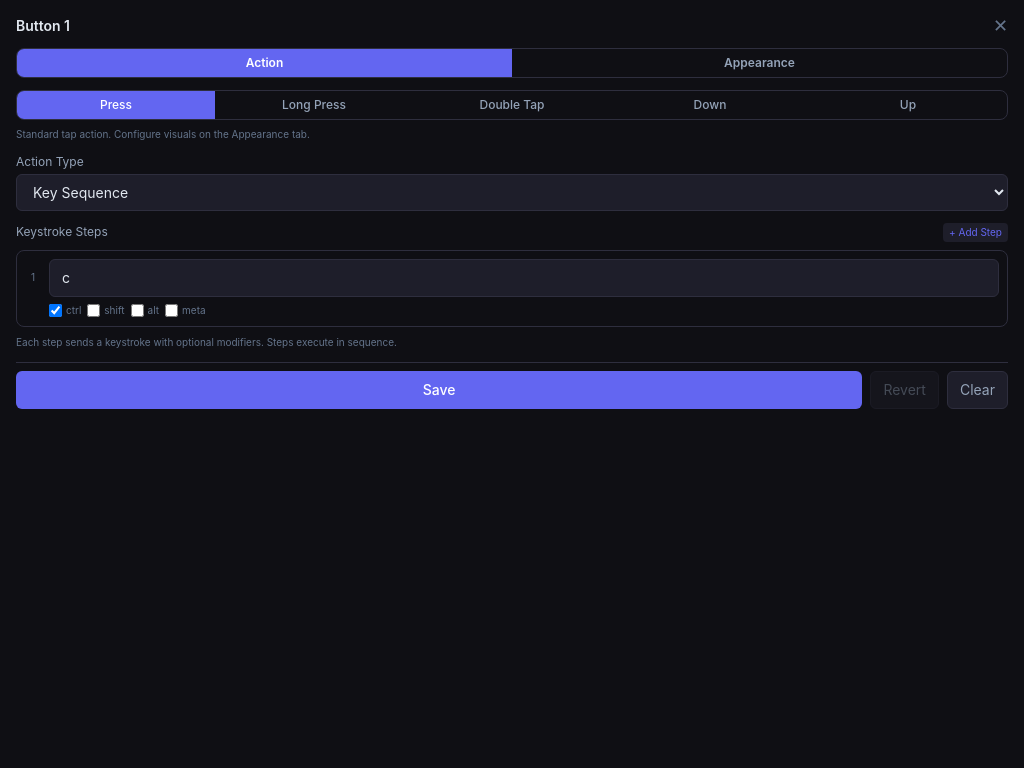
it: ActionPanel › button selected › should show existing action label for bound button
The image size is (1024, 768).
// Switch to Appearance tab where layers are displayed
Step 1. Click the button "Appearance" → (760, 63), box [512,49,1007,77]
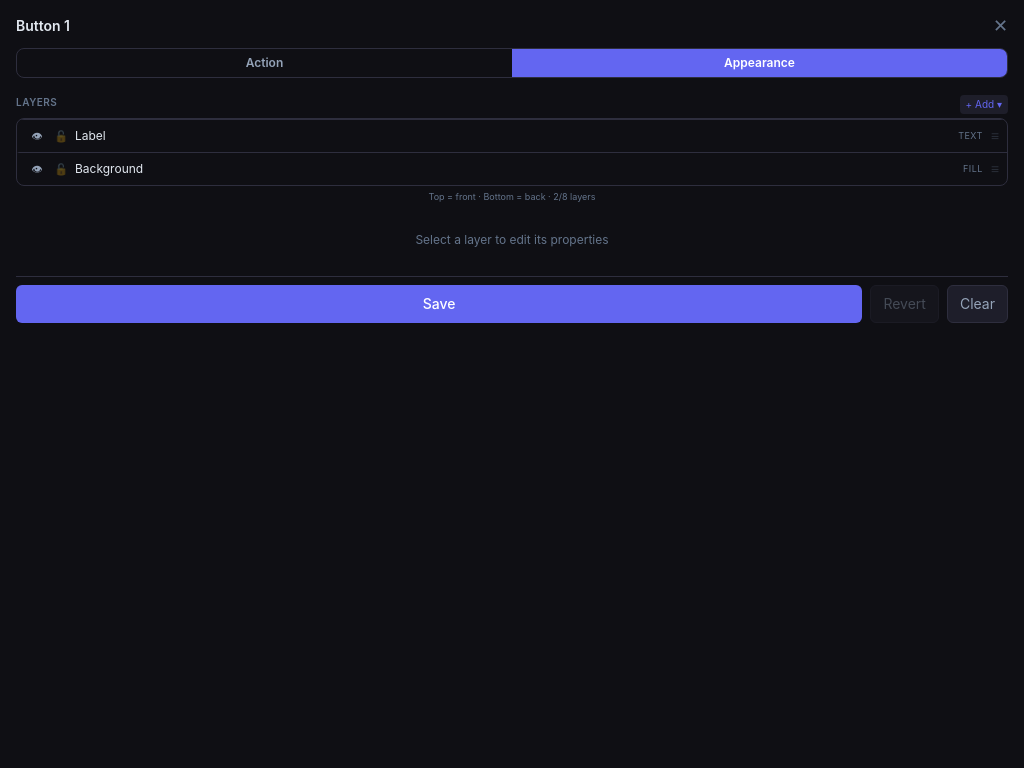
Expected: the text "Label" is shown
// Click on the Label layer to select it and open the inspector
Step 2. Click the text "Label" → (90, 136), box [75,128,106,143]
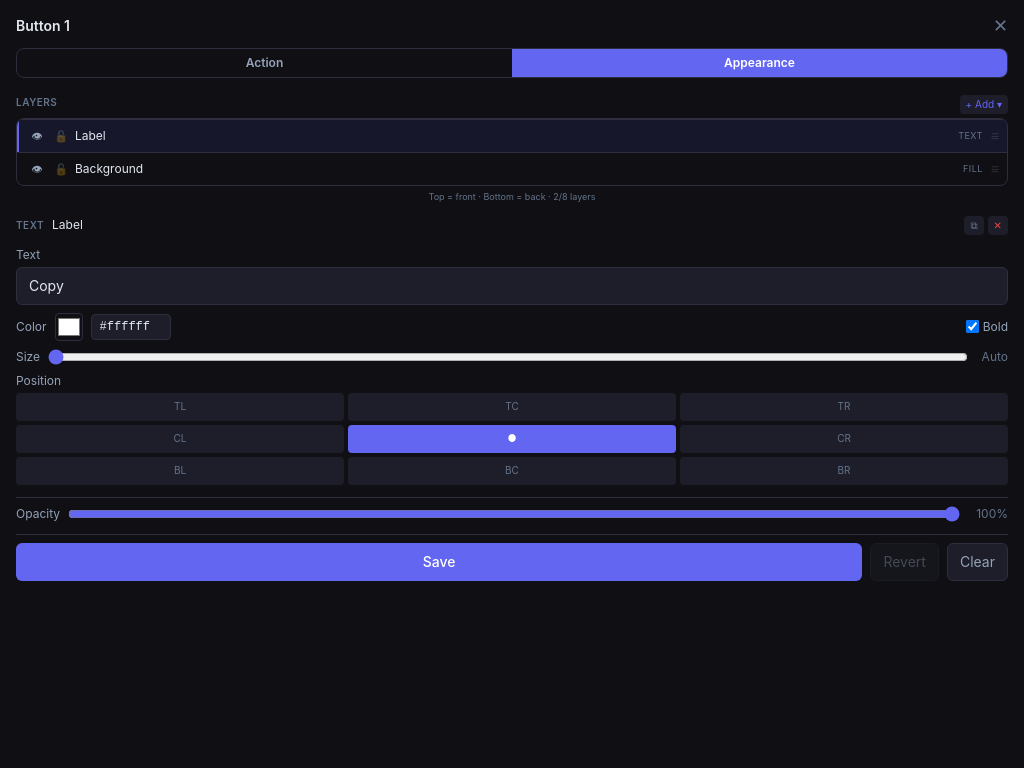
Expected: the field showing "Copy" is shown, [16,266,1008,304]
